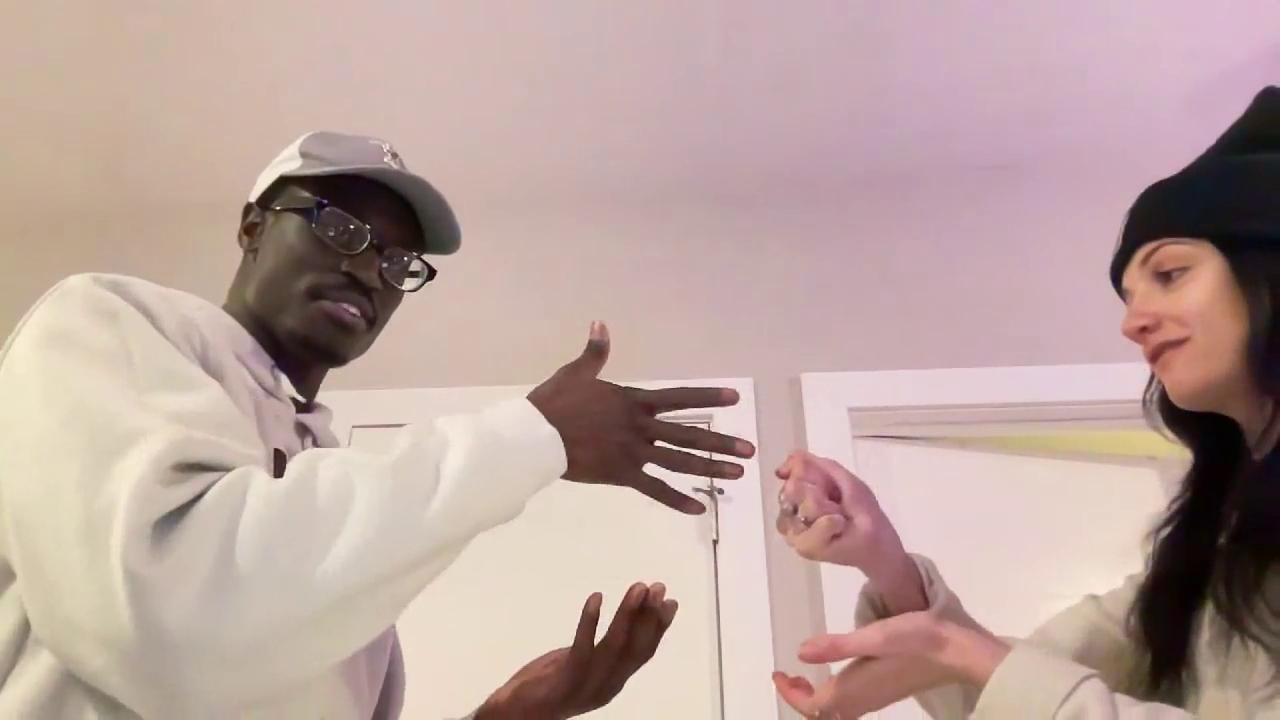Paper: (533, 322, 758, 521)
Rock: (773, 457, 890, 577)
